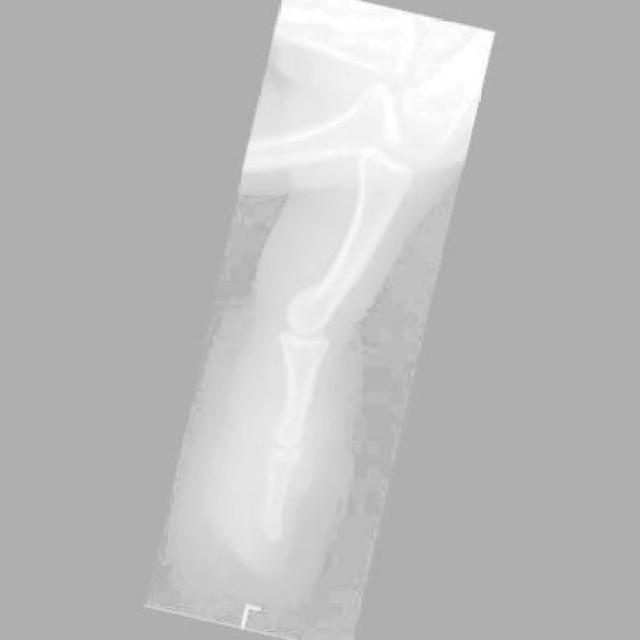Fracture: (257, 494, 288, 531)
